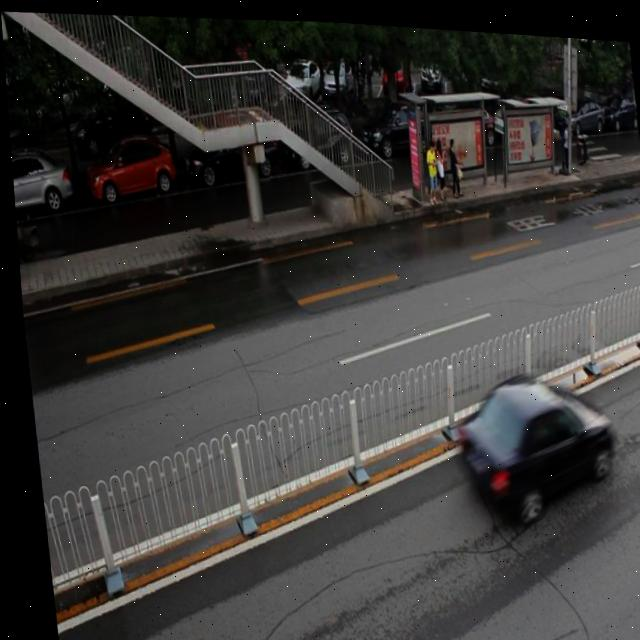car: (445, 362, 613, 519), (179, 113, 279, 187), (79, 132, 175, 207), (278, 99, 355, 171), (356, 92, 437, 159), (9, 149, 73, 217)
